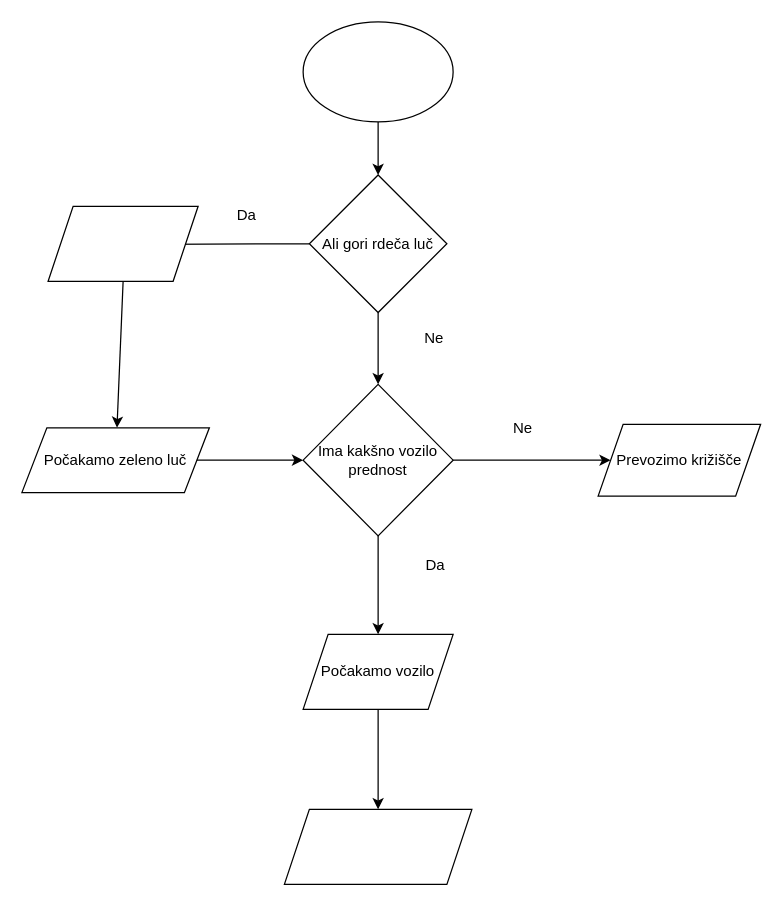
This 783x906 diagram has some shape labels left out. The shapes that lost their labels are listed below. From the top down, each one's centre as x and y in pixels, then its label:
At (377,71): "Pripeljemo do križišča".
At (122,243): "Ustavimo".
At (377,846): "Ko ni vozil, ki imajo prednost prevozimo križišče".
